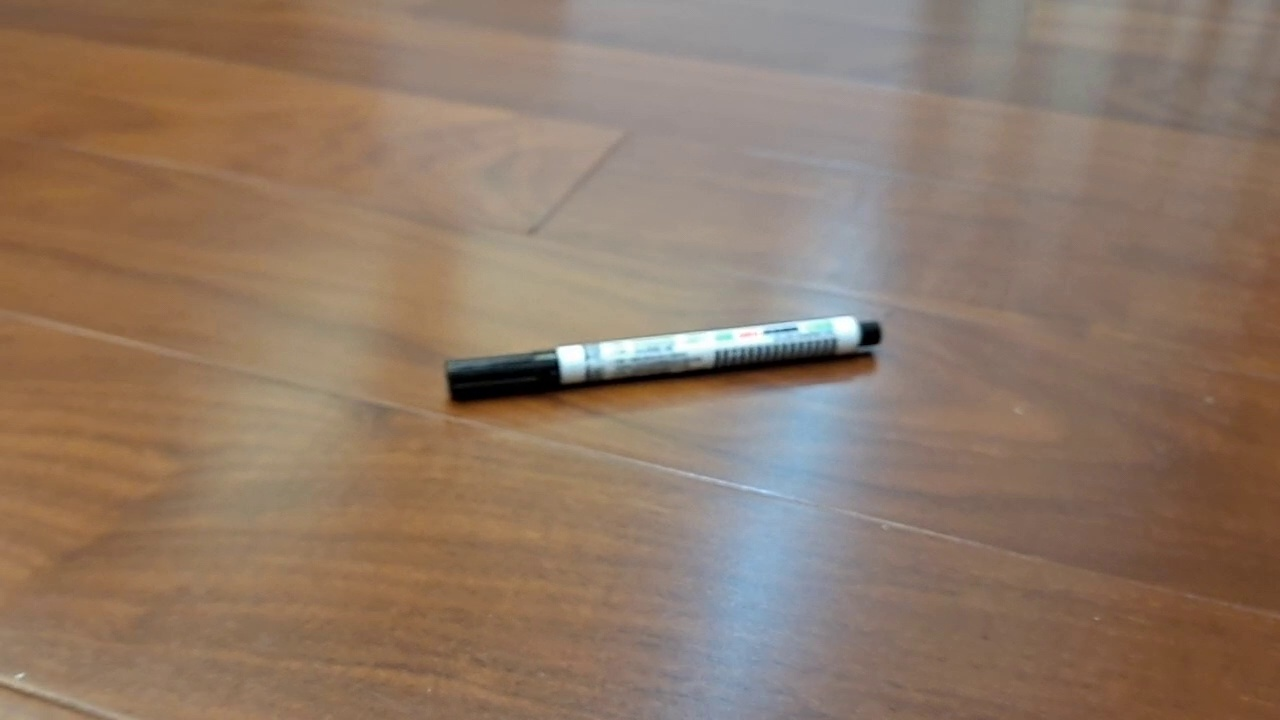pen: (446, 314, 882, 402)
